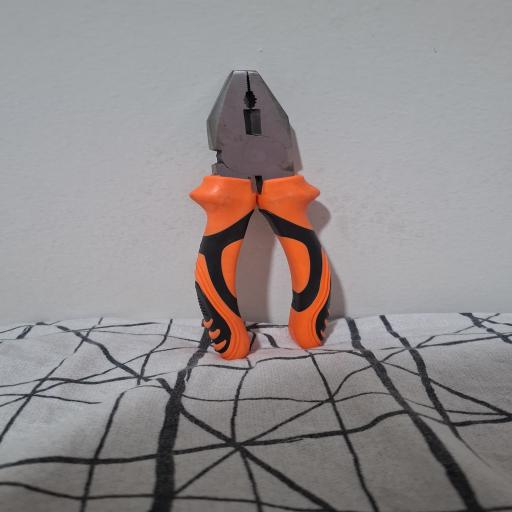alicate: (183, 68, 339, 362)
